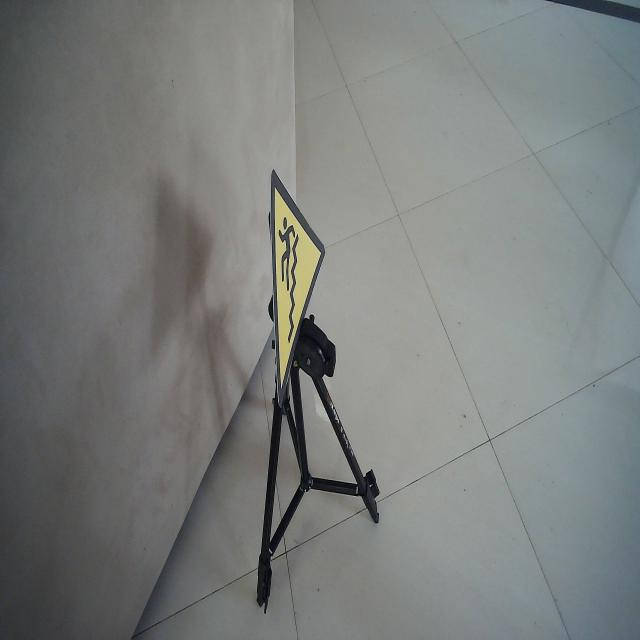stairs: (270, 167, 326, 409)
